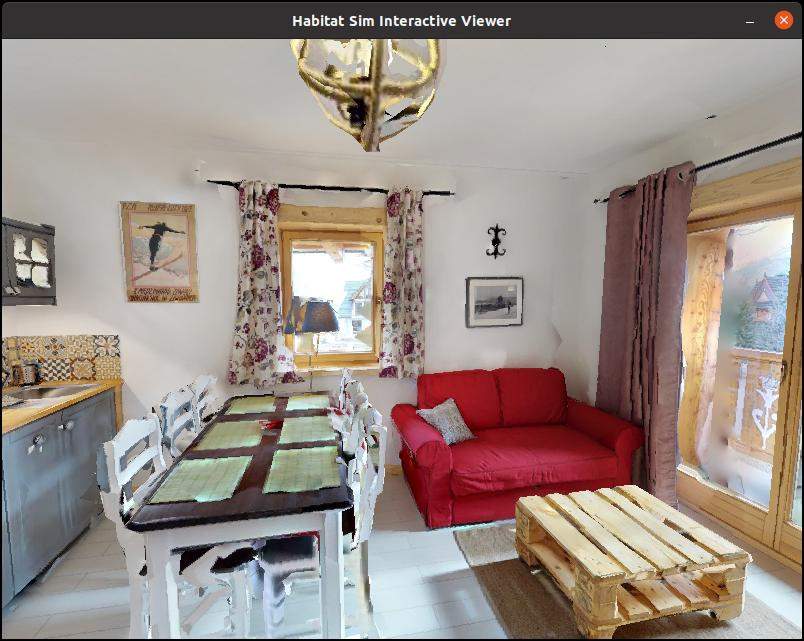chair: (85, 404, 255, 641), (253, 405, 403, 641)
sofa: (396, 366, 649, 525)
table: (116, 382, 368, 641), (495, 475, 774, 641)
